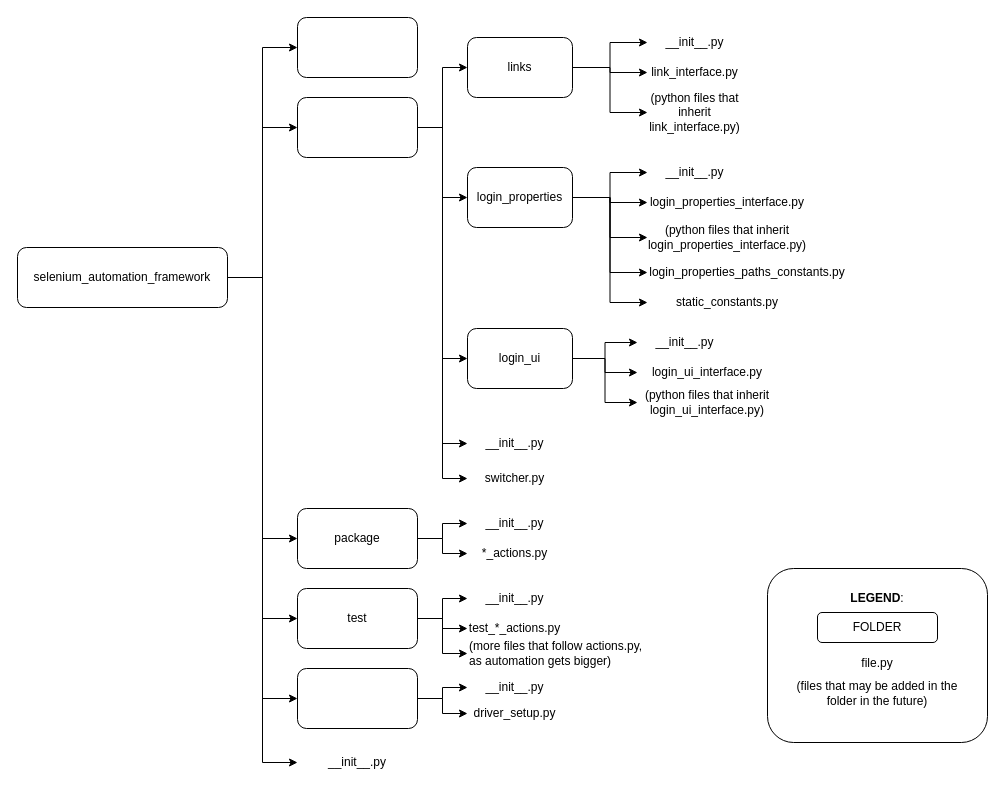
Image size: 1005x795. Some labels were removed from this diagram. Here are the shapes that lost their labels. From the top down, the box of each, then its label:
(296, 16, 418, 78): credentials
(296, 96, 418, 158): interfaces
(296, 668, 418, 728): webdriver_setup
